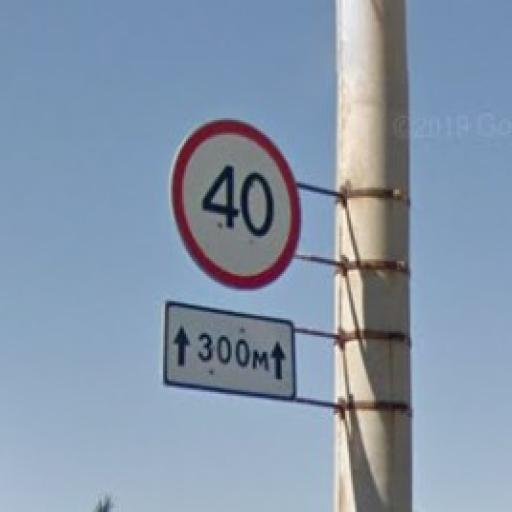traffic_sign: (172, 117, 304, 292)
